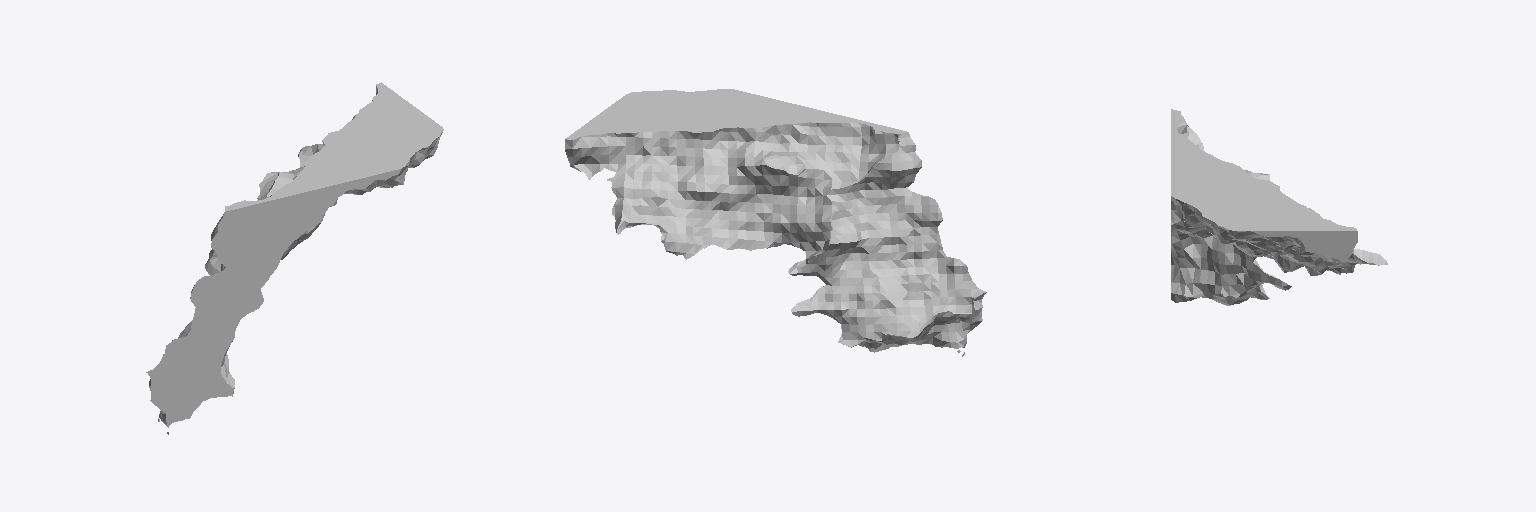
File: cube_20_seed_4_shard.014.obj
3 renders of one model, left to right at view 1: azimuth 30°, elevation 25°; view 2: azimuth 150°, elevation 25°; view 3: azimuth 270°, elevation 25°, orthographic.
Parts seen in each view (by area): view 1: Cube_shard.014_Cube_shard.154; view 2: Cube_shard.014_Cube_shard.154; view 3: Cube_shard.014_Cube_shard.154.
Part boxes in pixels (x1,y1,x2,y2): Cube_shard.014_Cube_shard.154: (146,82,443,434); Cube_shard.014_Cube_shard.154: (565,89,986,356); Cube_shard.014_Cube_shard.154: (1171,109,1387,305).
Size of the model in its own units: 1.76 by 1.08 by 1.02.